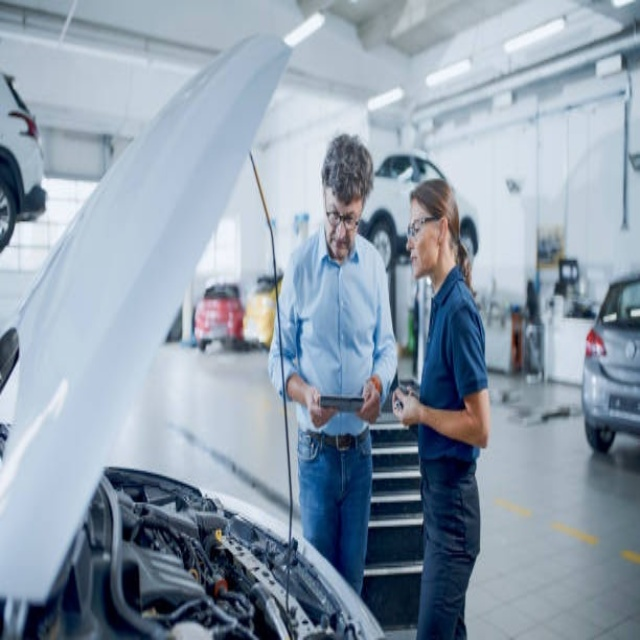Gafas: (325, 197, 363, 231), (406, 214, 442, 240)
Sin_guantes: (303, 383, 334, 430), (356, 376, 382, 423), (390, 386, 416, 428)
Sin_mascara: (332, 238, 350, 252), (408, 251, 418, 263)
